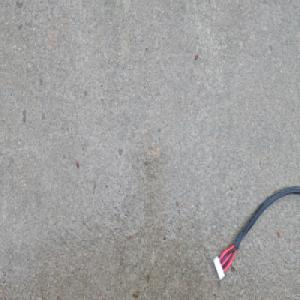Wire: (212, 185, 300, 280)
